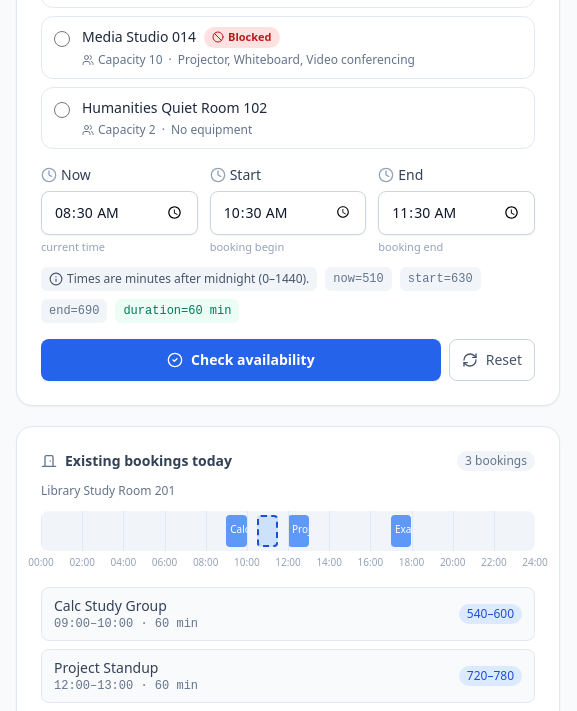
Scenario: AC1 – valid time window and start strictly after now › reports the default request (08:30 / 10:30–11:30, lib-201) as Available
(page scrolled)
Click the button "Check availability": [241, 360] box left=41, top=339, right=441, bottom=381
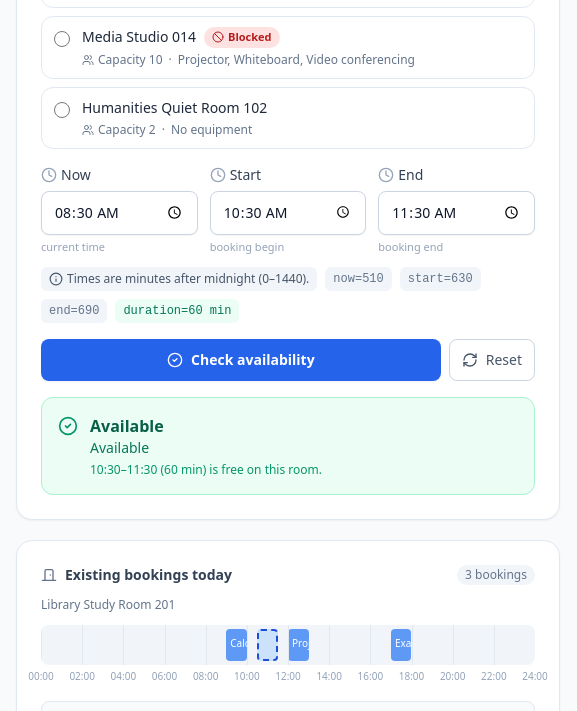
Expected: the message does not show "Unavailable", left=41, top=397, right=535, bottom=495
Expected: the message shows "Available", left=90, top=415, right=164, bottom=437
